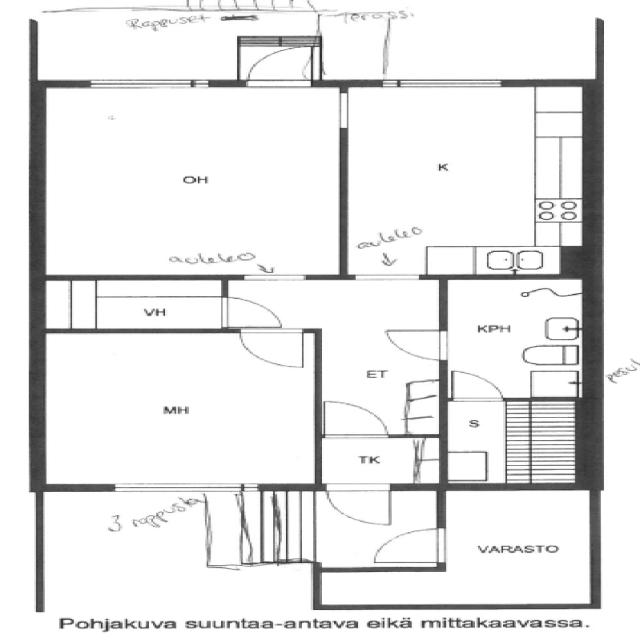door: (439, 277, 588, 407), (320, 481, 398, 531), (315, 397, 392, 442), (234, 327, 314, 370), (367, 526, 448, 568), (377, 324, 458, 364), (241, 44, 317, 86), (215, 295, 289, 332), (442, 368, 509, 406)
window: (104, 477, 276, 498), (372, 73, 512, 92), (81, 75, 214, 92), (343, 264, 431, 286), (231, 268, 316, 285), (331, 89, 354, 132)
zone: (35, 82, 350, 275), (340, 81, 590, 275), (38, 326, 320, 487), (435, 488, 595, 608), (440, 278, 590, 401), (445, 399, 587, 486), (33, 276, 232, 332), (317, 569, 443, 610)
